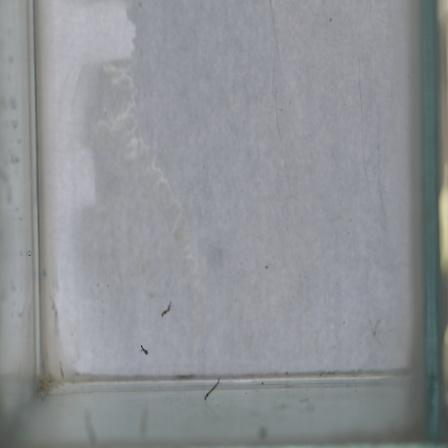Jentik-Nyamuk: (202, 375, 223, 402), (157, 298, 175, 321), (137, 340, 153, 359)
